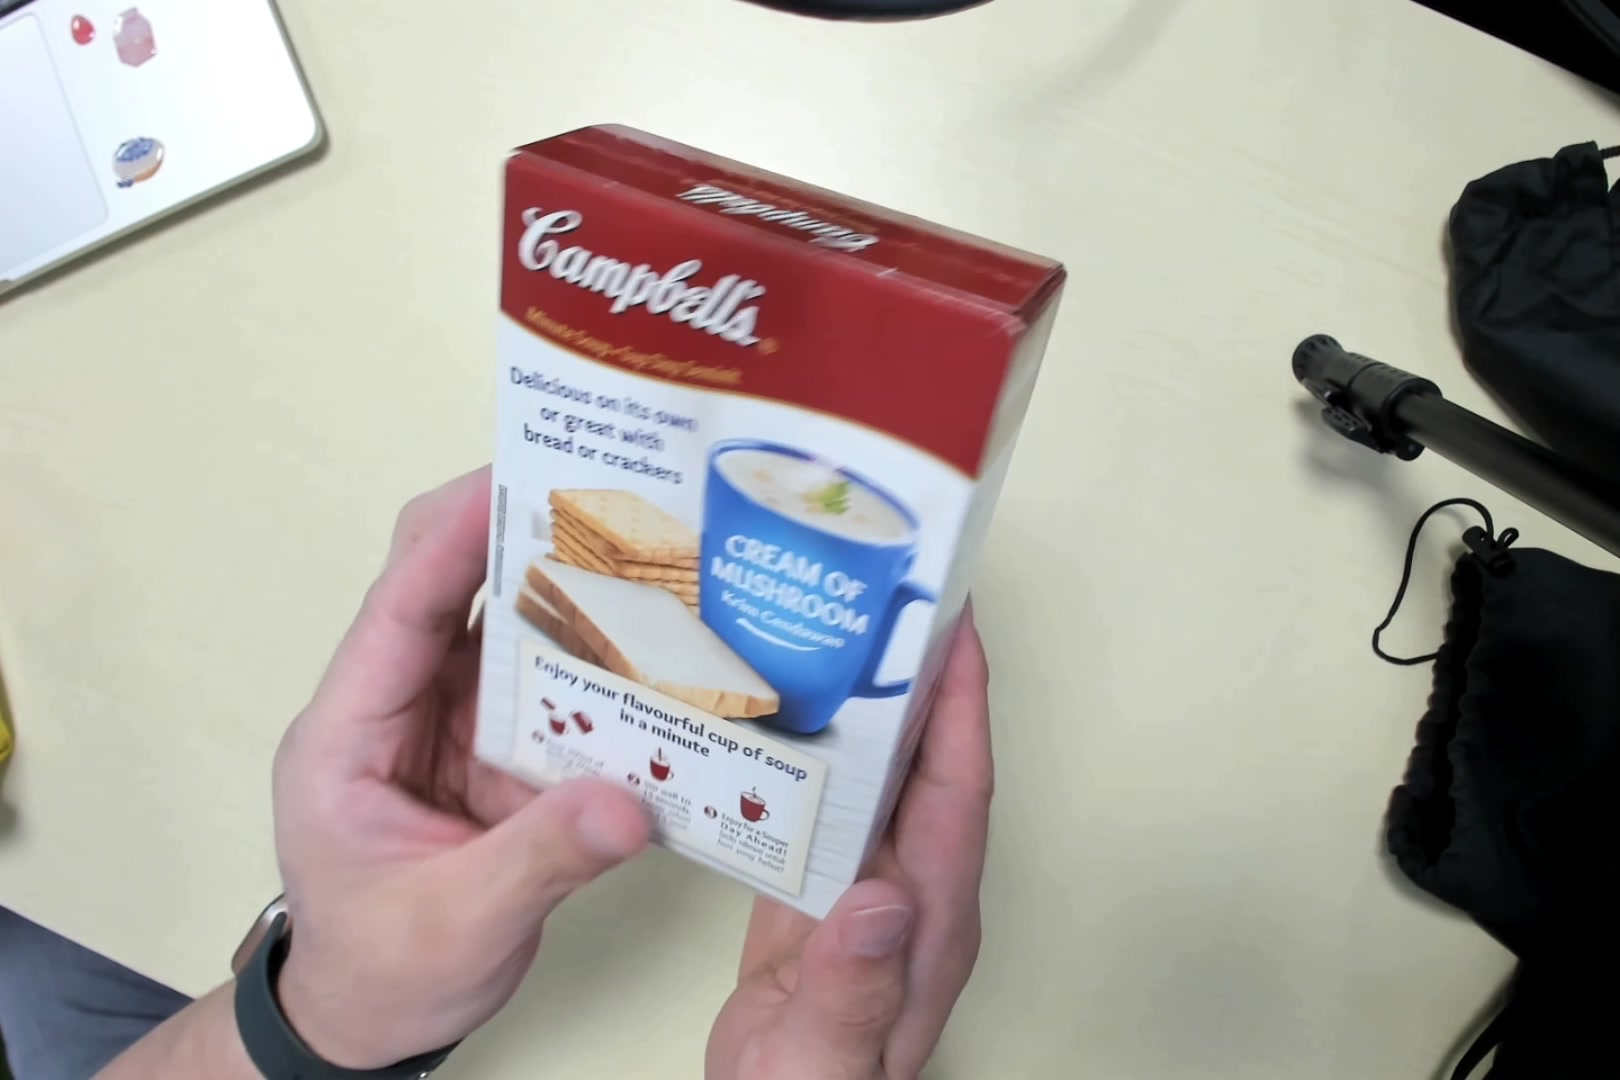InstantMeals_0-99g_Halal_NonHealthy: (463, 102, 1066, 928)
